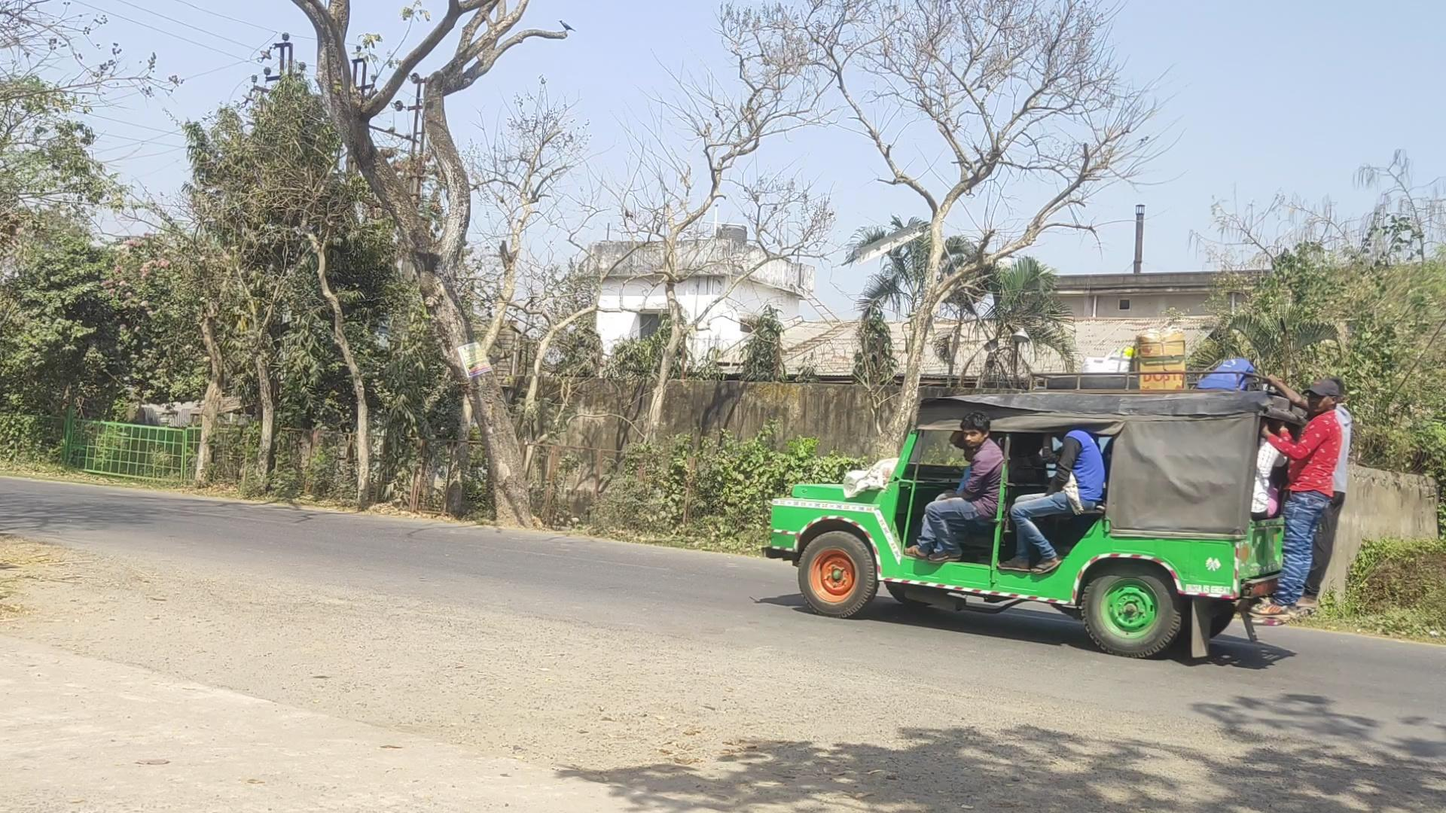car: (767, 361, 1350, 657)
